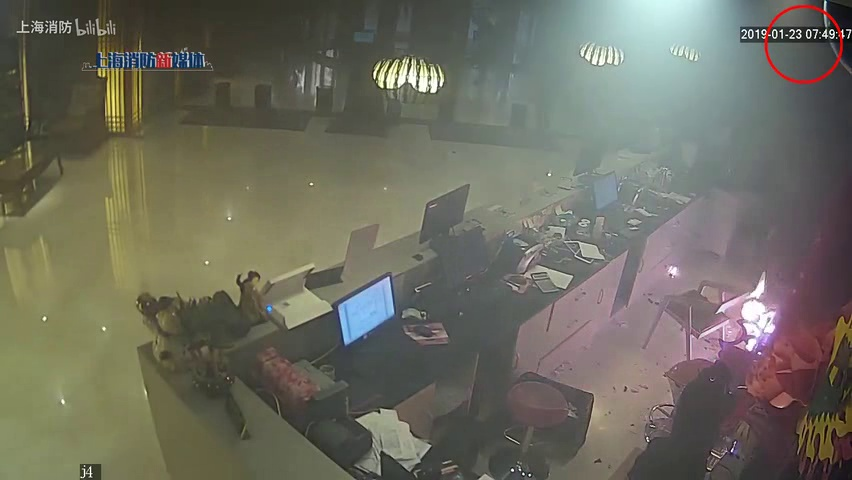fire: (737, 268, 783, 357)
